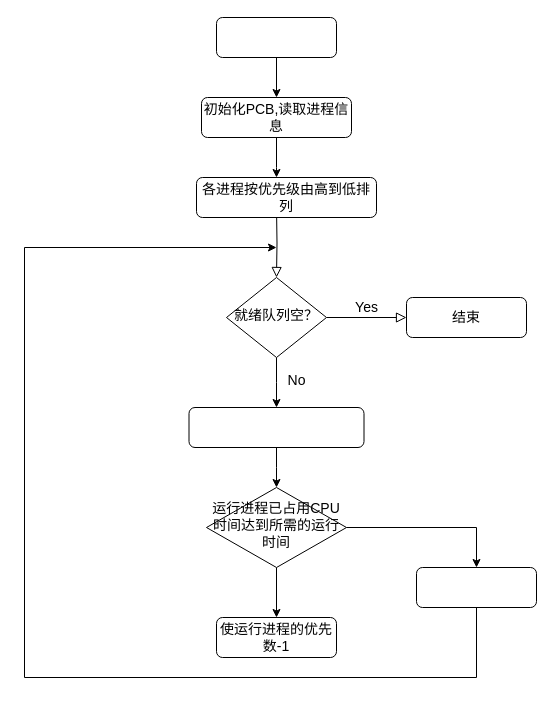
Some shapes in this 554 by 703 pixel diagram are drawn without their labels. Each missing label, with the centre of its shape:
就绪队列首进程投入运行: point (276, 427)
开始: point (276, 37)
进程完成，撤销该进程: point (476, 587)
